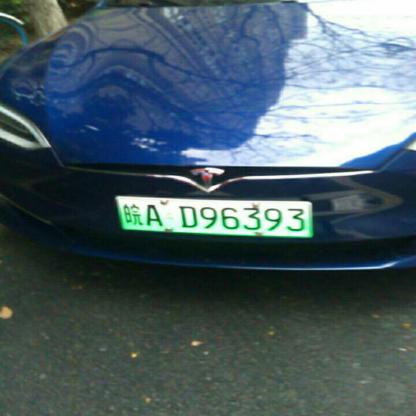lp: (116, 195, 312, 236)
